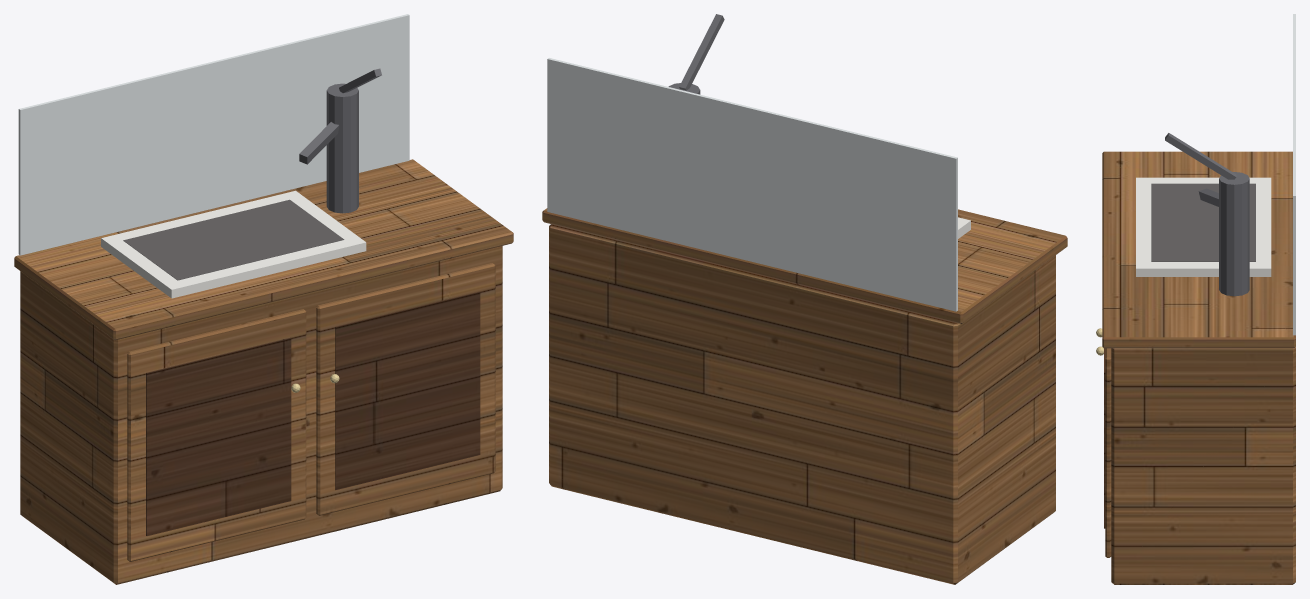
Rendered from sink_cabinet.glb.
3 views of the same model, side by side, from view 1: azimuth 30°, elevation 25°; view 2: azimuth 150°, elevation 25°; view 3: azimuth 270°, elevation 25° (orthographic). The views are drawn at different scales.
Parts seen in each view (by area): view 1: sink_cabinet_wood, sink_cabinet_tile, sink_cabinet_dkwood, sink_cabinet_dark, sink_cabinet_enamel, sink_cabinet_iron; view 2: sink_cabinet_wood, sink_cabinet_tile, sink_cabinet_iron; view 3: sink_cabinet_wood, sink_cabinet_dark, sink_cabinet_enamel, sink_cabinet_iron, sink_cabinet_tile, sink_cabinet_dkwood.
Boxes of the visible parts, box(x1,y1,x2,y2) form: sink_cabinet_wood: box(14, 159, 513, 584); sink_cabinet_tile: box(18, 14, 409, 255); sink_cabinet_dkwood: box(146, 291, 480, 535); sink_cabinet_dark: box(123, 199, 344, 280); sink_cabinet_enamel: box(101, 190, 366, 298); sink_cabinet_iron: box(299, 68, 381, 213); sink_cabinet_wood: box(542, 208, 1067, 584); sink_cabinet_tile: box(547, 58, 957, 311); sink_cabinet_iron: box(668, 14, 724, 94); sink_cabinet_wood: box(1102, 151, 1295, 584); sink_cabinet_dark: box(1151, 183, 1255, 261); sink_cabinet_enamel: box(1136, 177, 1271, 276); sink_cabinet_iron: box(1165, 133, 1249, 296); sink_cabinet_tile: box(1293, 14, 1295, 335); sink_cabinet_dkwood: box(1104, 348, 1105, 528).
Size of the model in its own units: 1.44 by 1.46 by 0.65.
7 materials, 2 textured.
